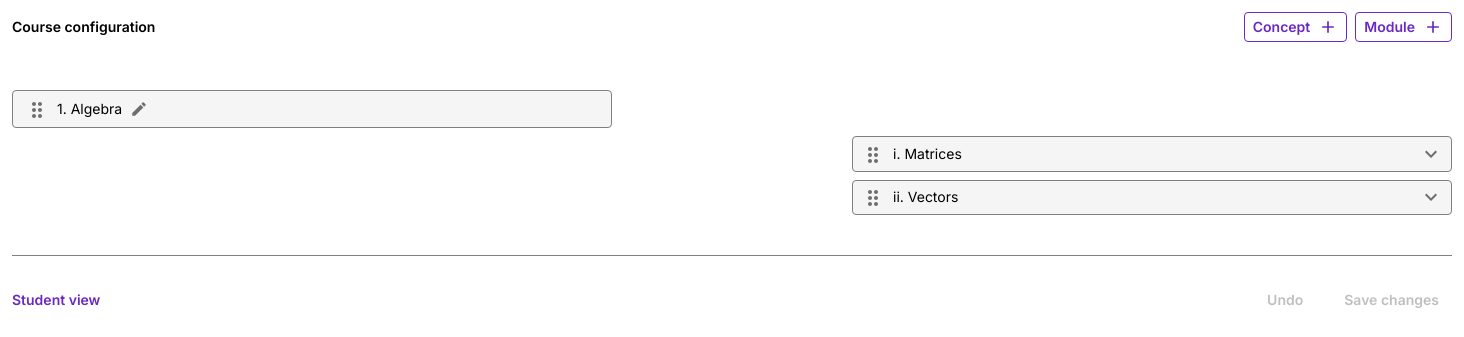
Test: ConfigurationTab › stages a concept rename — enabling Undo + Save and updating the heading — without persisting
This screenshot has width=1464, height=337.
Click the button named "Rename concept" at (139, 109), box [130,100,148,118]
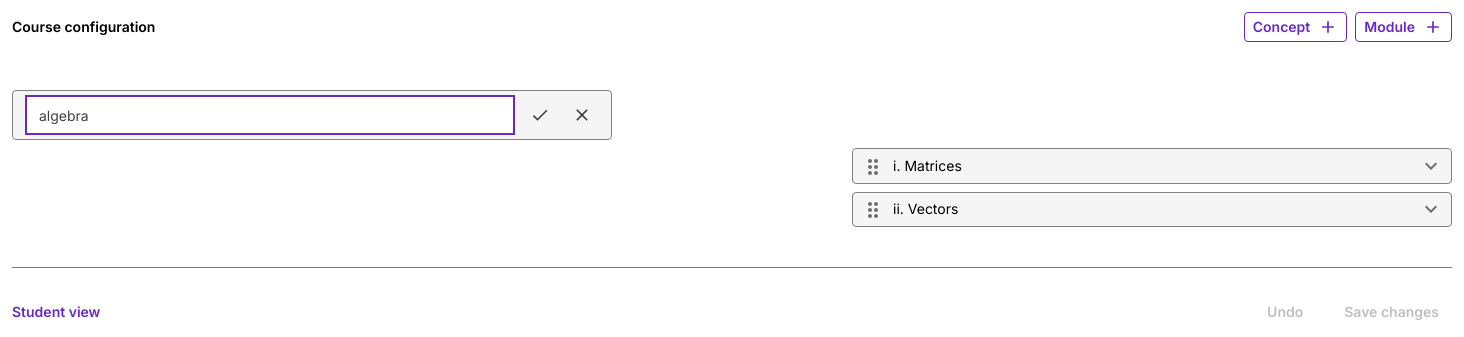
Replace the text in the field named "Concept name" with "Geometry" at (270, 115), box [25,95,515,135]
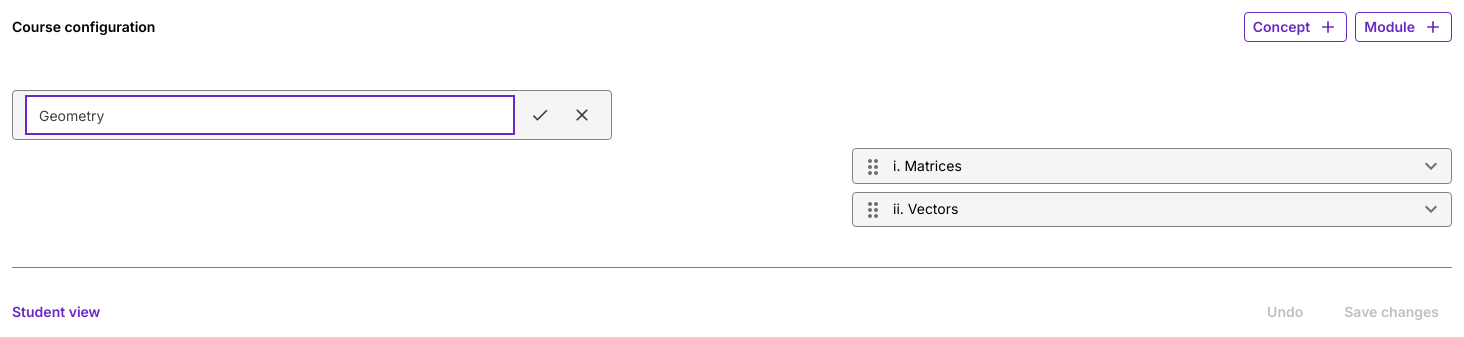
Click the button named "Save concept name" at (540, 115), box [523,95,557,135]
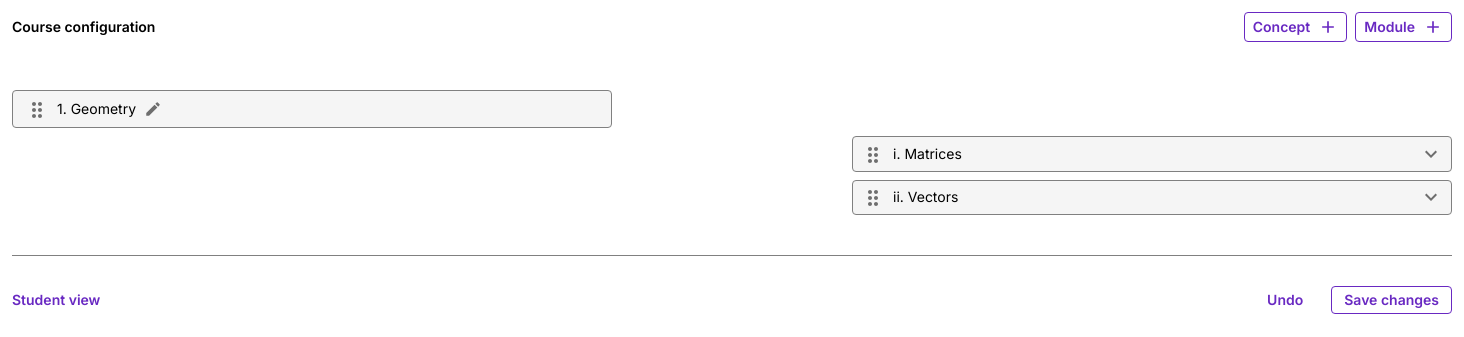
Expected: the heading "1. Geometry" is shown, [57,95,136,123]
Expected: the button "Undo" is enabled, [1255,286,1315,314]
Expected: the button "Save changes" is enabled, [1331,286,1452,314]
